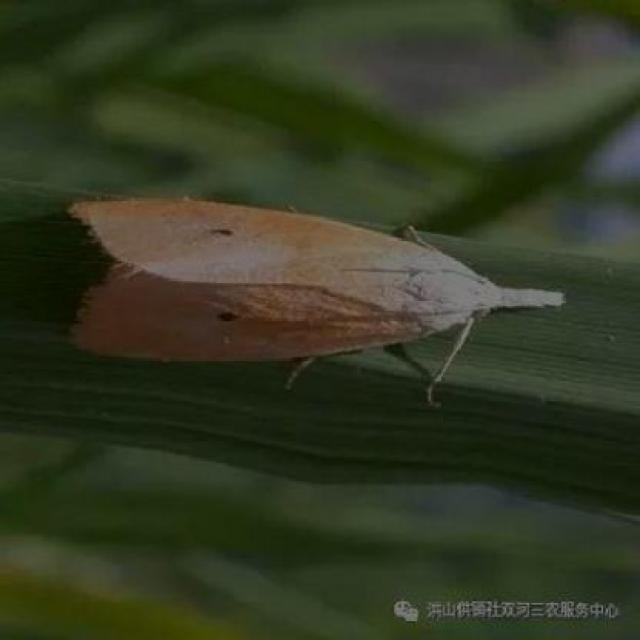stem-borer: (63, 192, 571, 380)
